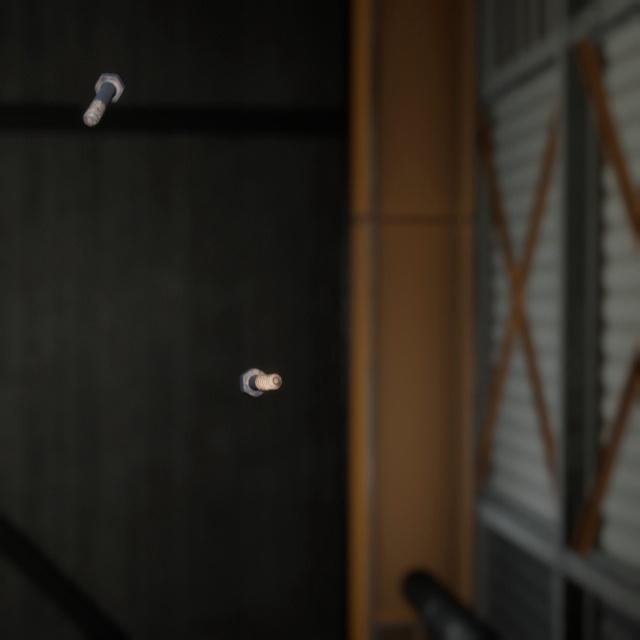bolt: (78, 57, 129, 119), (235, 344, 286, 382)
